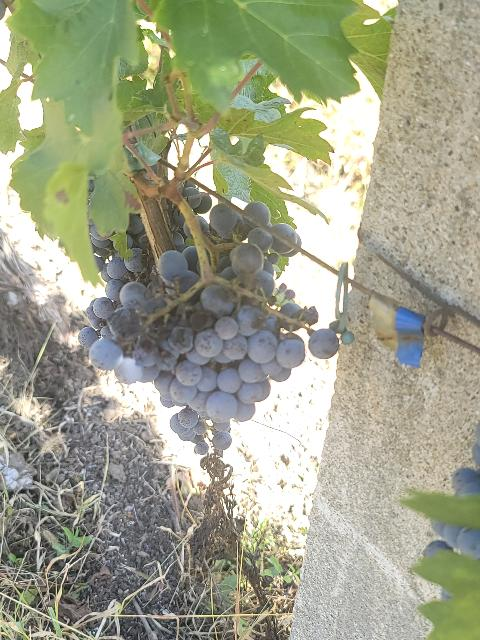grapes: (80, 205, 339, 451)
